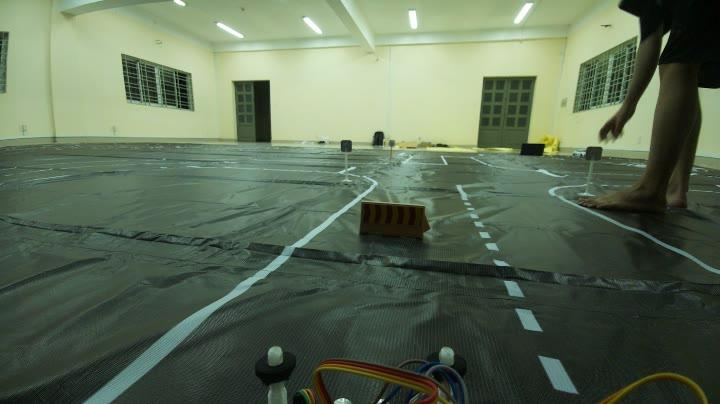roadblock: (349, 193, 437, 249)
